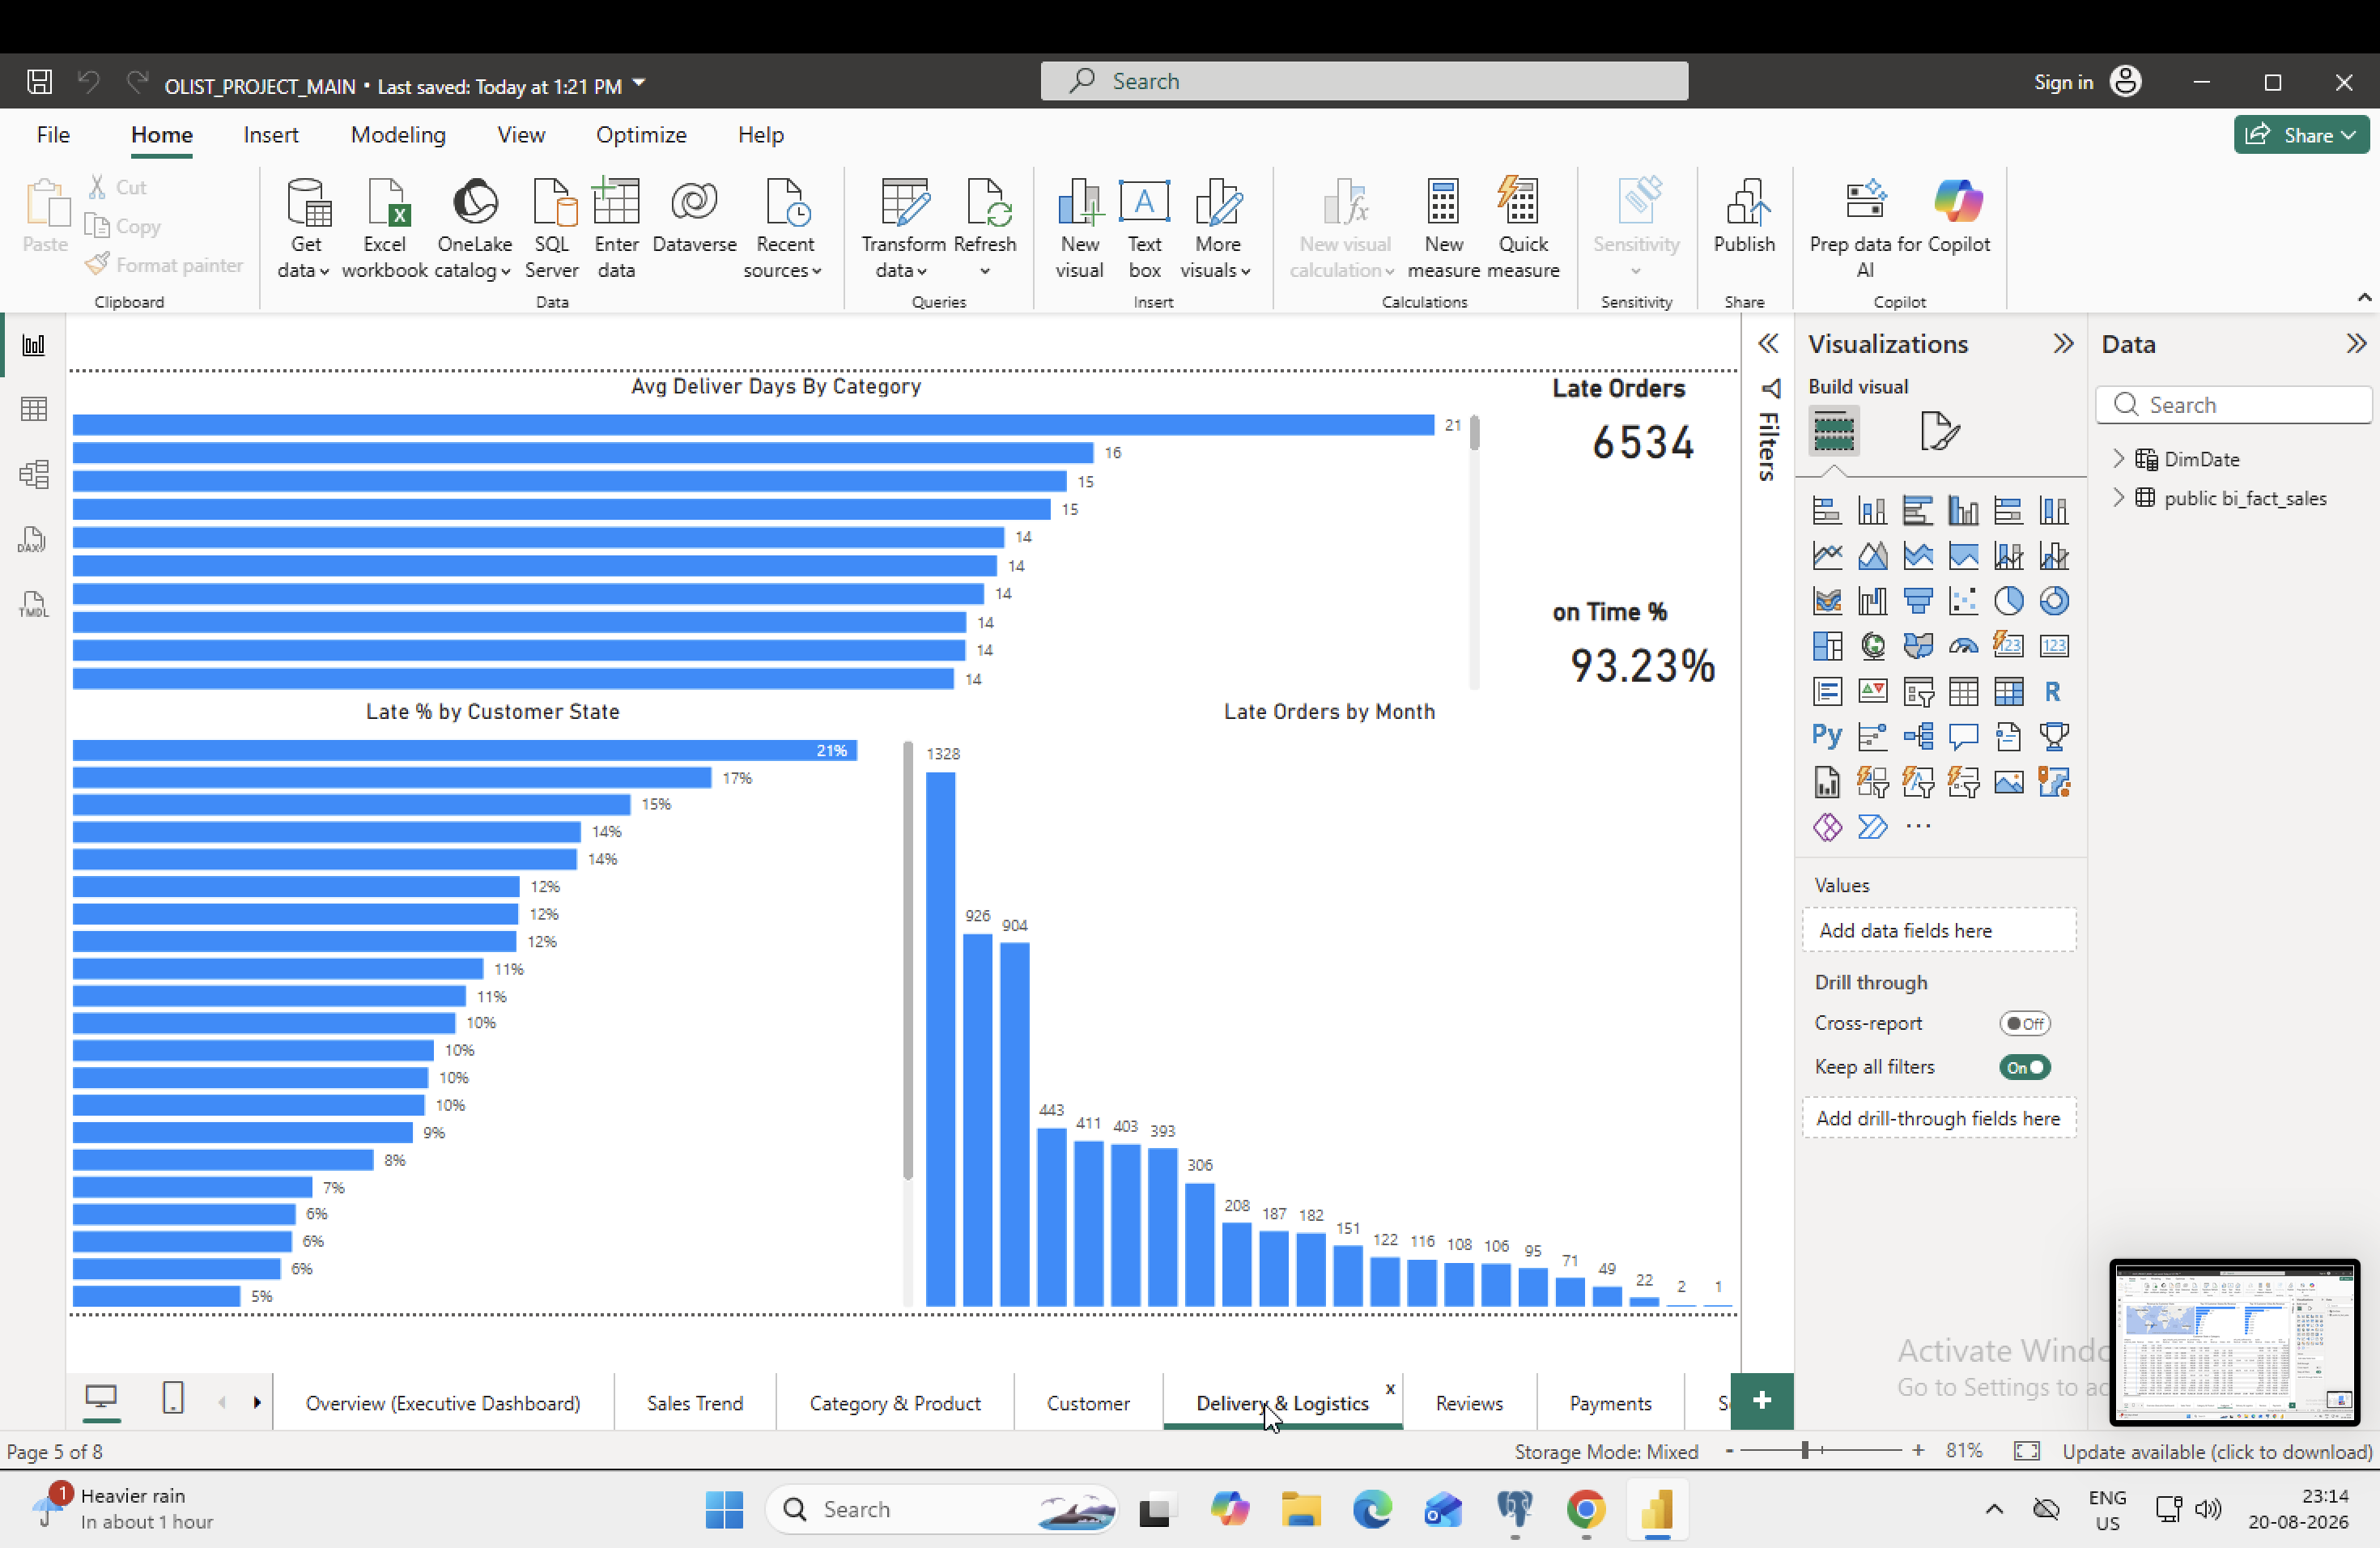

This screenshot's page, from the dashboard's own definition file:
{"tool":"powerbi","page":{"name":"Delivery & Logistics","canvas":[1280,720],"ordinal":4},"visuals":[{"type":"card","title":"Late Orders","fields":{"Values":["public bi_fact_sales.Late Orders"]},"box":[1131.9,0,148.1,78],"z":0},{"type":"card","title":"on Time %","fields":{"Values":["public bi_fact_sales.On-time %"]},"box":[1131.9,170.3,148.1,78],"z":1000},{"type":"columnChart","title":"Late Orders by Month","fields":{"Category":["DimDate.Year-Month"],"Y":["public bi_fact_sales.Late Orders"]},"box":[652.7,248.4,627.3,471.2],"z":2000},{"type":"barChart","title":"Avg Deliver Days By Category","fields":{"Category":["public bi_fact_sales.category"],"Y":["public bi_fact_sales.Avg Delivery Days"]},"box":[0,0,1085.8,248.4],"z":3000},{"type":"barChart","title":"Late % by Customer State","fields":{"Category":["public bi_fact_sales.customer_state"],"Y":["public bi_fact_sales.Late %"]},"box":[0,248.4,652.7,471.2],"z":4000}]}

Visuals, with their boxes on the page's 1280x720 design canvas (x1, y1, x2, y2). These are canvas units, not pixel positions in the 2380x1548 screenshot, which may show the page scaled, cropped or inside an application window:
"Late Orders" card: l=1132, t=0, r=1280, b=78
"on Time %" card: l=1132, t=170, r=1280, b=248
"Late Orders by Month" columnChart: l=653, t=248, r=1280, b=720
"Avg Deliver Days By Category" barChart: l=0, t=0, r=1086, b=248
"Late % by Customer State" barChart: l=0, t=248, r=653, b=720
